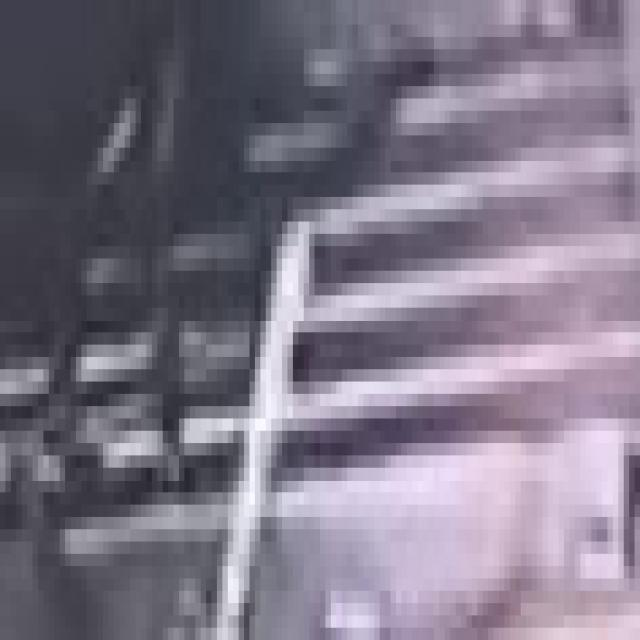stick: (194, 207, 326, 640)
